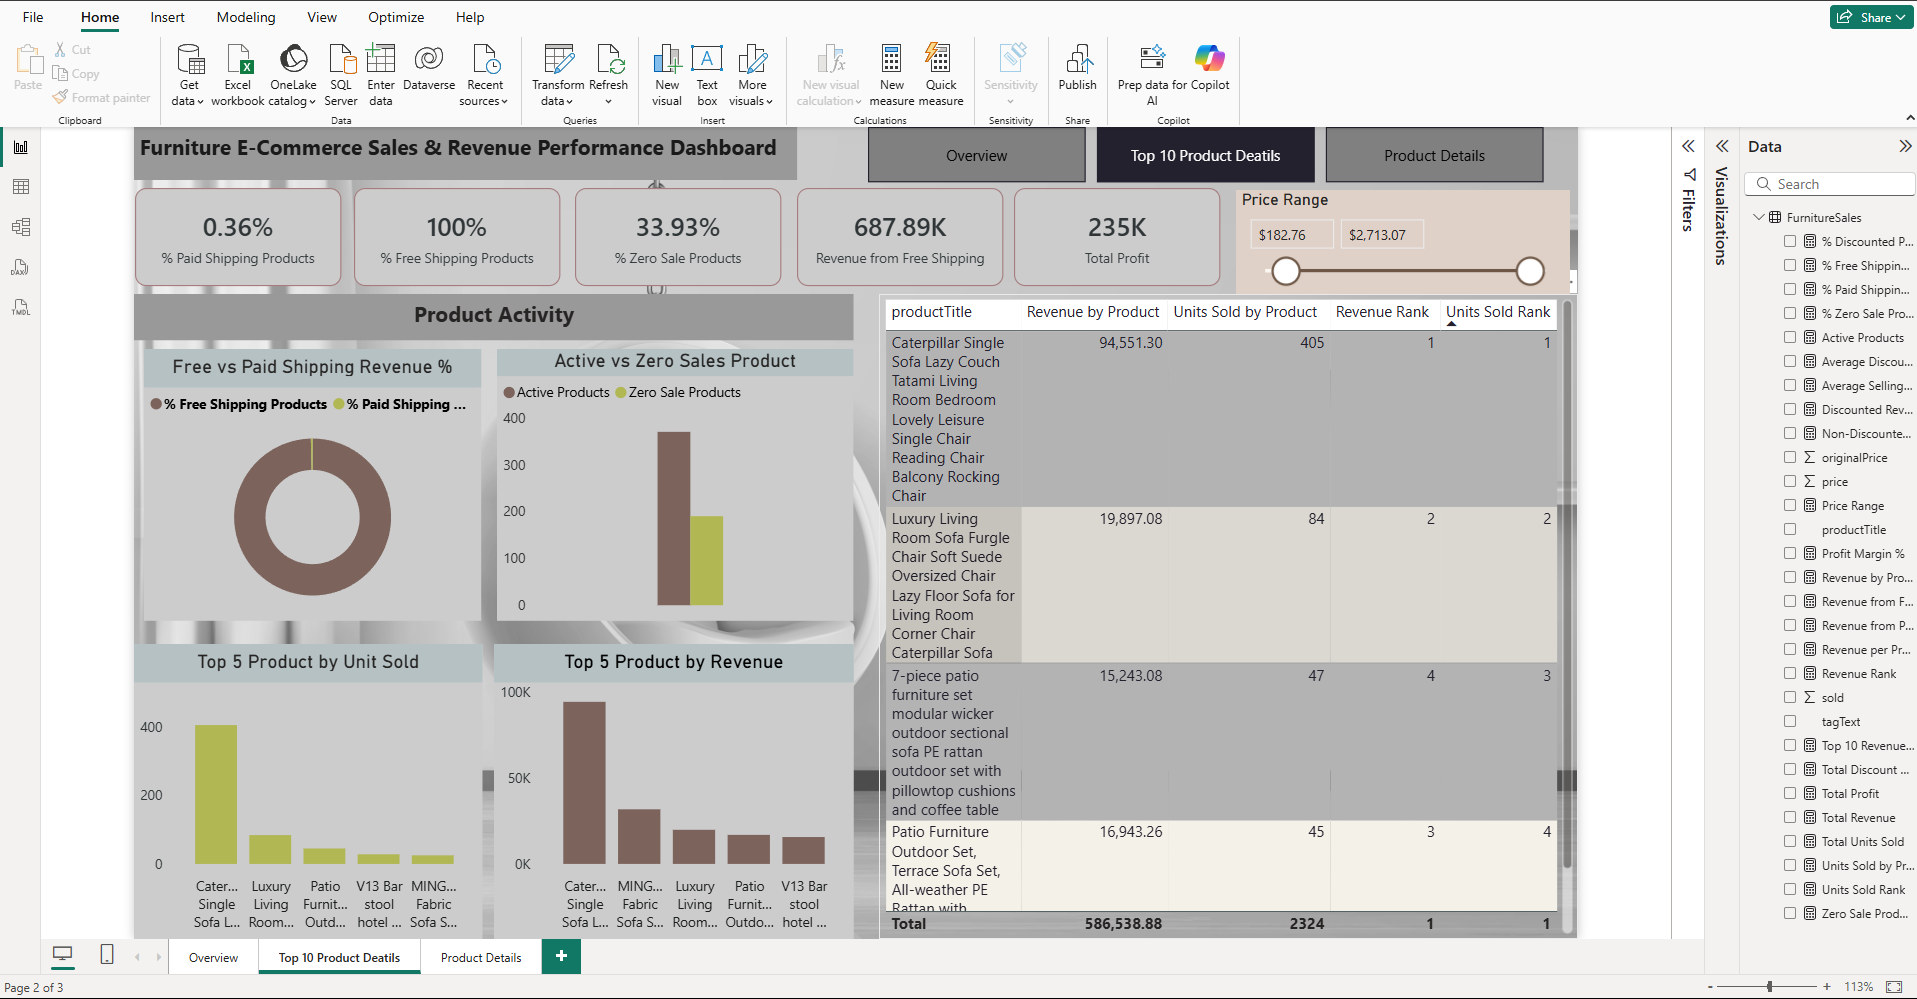

The dashboard page shown, as its layout file describes it:
{"tool":"powerbi","page":{"name":"Top 10 Product Deatils","canvas":[1280,720],"ordinal":1},"visuals":[{"type":"actionButton","box":[0,0,100,40],"z":0},{"type":"textbox","box":[0,0,588.4,46.7],"z":1000},{"type":"donutChart","title":"Free vs Paid Shipping Revenue %","fields":{"Y":["FurnitureSales.% Free Shipping Products","FurnitureSales.% Paid Shipping Products"]},"box":[9,197,299,241],"z":2000},{"type":"clusteredColumnChart","title":"Active vs Zero Sales Product","fields":{"Y":["FurnitureSales.Active Products","FurnitureSales.Zero Sale Products"]},"box":[321.9,196.5,316.1,241.2],"z":3000},{"type":"textbox","box":[-0.3,147.9,638.4,40.8],"z":4000},{"type":"columnChart","title":"Top 5 Product by Revenue","fields":{"Category":["FurnitureSales.productTitle"],"Y":["FurnitureSales.Total Revenue"]},"box":[319,458,319,262],"z":5000},{"type":"tableEx","fields":{"Values":["FurnitureSales.productTitle","FurnitureSales.Revenue by Product","FurnitureSales.Units Sold by Product","FurnitureSales.Revenue Rank","FurnitureSales.Units Sold Rank"]},"box":[660.4,147.8,619.6,571.9],"z":6000},{"type":"slicer","title":"Price Range","fields":{"Values":["FurnitureSales.price"]},"box":[977.5,55.4,295.7,92.4],"z":7000},{"type":"card","title":"Top 10 Revenue Contribution","fields":{"Values":["FurnitureSales.% Paid Shipping Products"]},"box":[1.1,53.9,182.7,86.9],"z":8000},{"type":"card","title":"Top 10 Revenue Contribution","fields":{"Values":["FurnitureSales.% Free Shipping Products"]},"box":[195.3,53.9,182.7,86.9],"z":9000},{"type":"card","title":"Top 10 Revenue Contribution","fields":{"Values":["FurnitureSales.% Zero Sale Products"]},"box":[391.2,53.9,182.7,86.9],"z":10000},{"type":"card","title":"Top 10 Revenue Contribution","fields":{"Values":["FurnitureSales.Revenue from Free Shipping"]},"box":[588.1,53.9,182.7,86.9],"z":11000},{"type":"card","title":"Top 10 Revenue Contribution","fields":{"Values":["FurnitureSales.Total Profit"]},"box":[780.5,53.9,182.7,86.9],"z":12000},{"type":"columnChart","title":"Top 5 Product by Unit Sold","fields":{"Category":["FurnitureSales.productTitle"],"Y":["FurnitureSales.Total Units Sold"]},"box":[0,458,309,262],"z":13000},{"type":"pageNavigator","box":[650.7,0,600.1,49.6],"z":14000}]}

Visuals, with their boxes on the page's 1280x720 design canvas (x1, y1, x2, y2). These are canvas units, not pixel positions in the 1917x999 screenshot, which may show the page scaled, cropped or inside an application window:
actionButton: box(0, 0, 100, 40)
textbox: box(0, 0, 588, 47)
"Free vs Paid Shipping Revenue %" donutChart: box(9, 197, 308, 438)
"Active vs Zero Sales Product" clusteredColumnChart: box(322, 196, 638, 438)
textbox: box(0, 148, 638, 189)
"Top 5 Product by Revenue" columnChart: box(319, 458, 638, 720)
tableEx - FurnitureSales.productTitle x FurnitureSales.Revenue by Product: box(660, 148, 1280, 720)
"Price Range" slicer: box(978, 55, 1273, 148)
"Top 10 Revenue Contribution" card: box(1, 54, 184, 141)
"Top 10 Revenue Contribution" card: box(195, 54, 378, 141)
"Top 10 Revenue Contribution" card: box(391, 54, 574, 141)
"Top 10 Revenue Contribution" card: box(588, 54, 771, 141)
"Top 10 Revenue Contribution" card: box(780, 54, 963, 141)
"Top 5 Product by Unit Sold" columnChart: box(0, 458, 309, 720)
pageNavigator: box(651, 0, 1251, 50)
